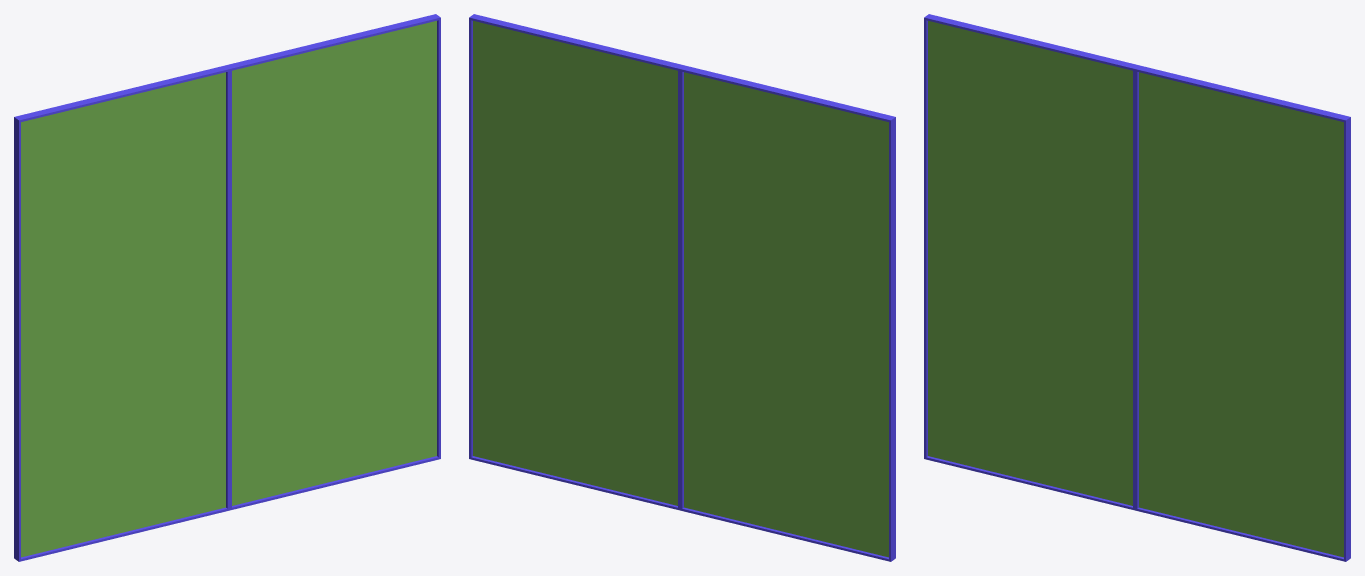
File: Window_01.FBX
3 renders of one model, left to right at view 1: azimuth 30°, elevation 25°; view 2: azimuth 150°, elevation 25°; view 3: azimuth 330°, elevation 25°, orthographic.
Visible parts, largest first — view 1: Window_01; view 2: Window_01; view 3: Window_01.
Part boxes in pixels (x1,y1,x2,y2): Window_01: (14, 14, 440, 561); Window_01: (469, 14, 895, 561); Window_01: (924, 14, 1350, 561).
Bounding box in the file's own units: 4 × 4 × 0.08.
